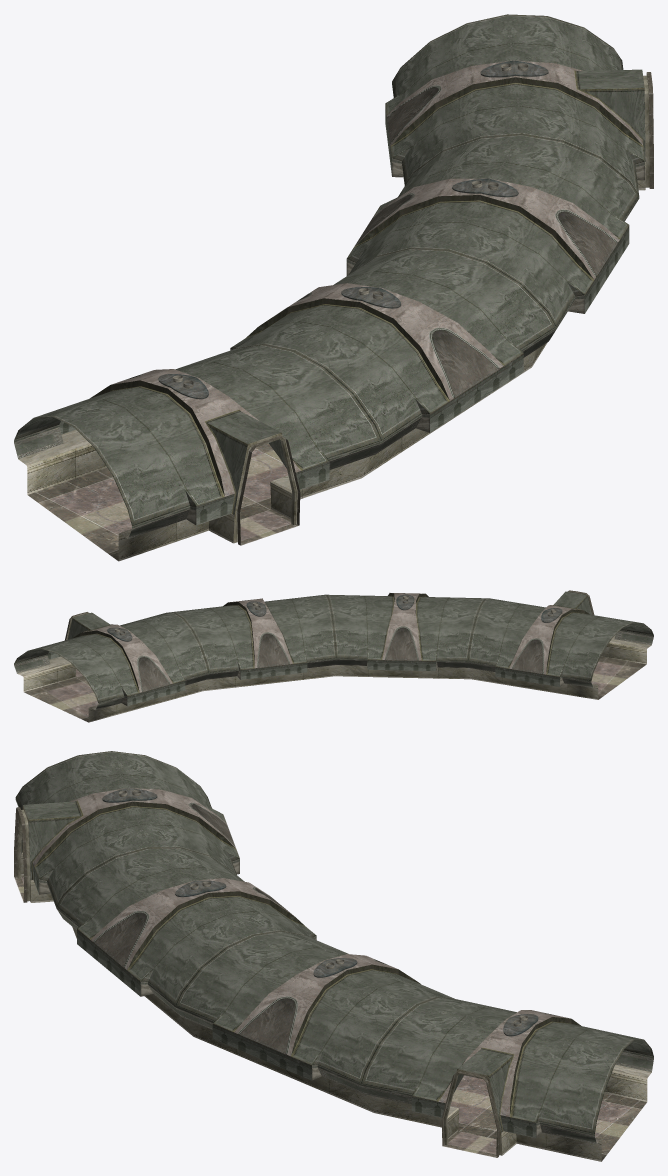
The model's file is thm_yavn_jedi_enclave_light_r21_curvehall5_mesh_r21.fbx.
3 renders of one model, top to bottom at view 1: azimuth 30°, elevation 25°; view 2: azimuth 150°, elevation 25°; view 3: azimuth 270°, elevation 25°, orthographic. The views are drawn at different scales.
Parts seen in each view (by area): view 1: mesh_node; view 2: mesh_node; view 3: mesh_node.
Part boxes in pixels (box(x1,y1,x2,y2)): mesh_node: box(14, 14, 653, 561); mesh_node: box(14, 590, 653, 722); mesh_node: box(14, 751, 653, 1161).
Bounding box in the file's own units: 28.97 × 3.65 × 23.26.
